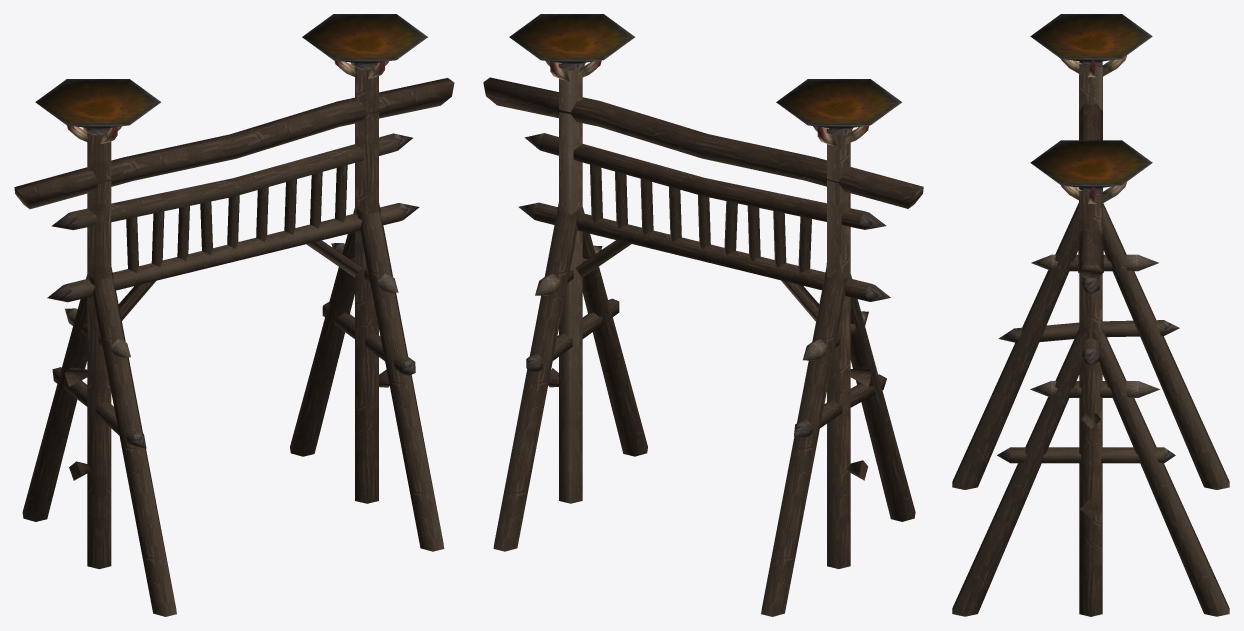
The model's file is mumen_20.fbx.
3 views of the same model, side by side, from view 1: azimuth 30°, elevation 25°; view 2: azimuth 150°, elevation 25°; view 3: azimuth 270°, elevation 25° (orthographic). The views are drawn at different scales.
Parts seen in each view (by area): view 1: mumen_20; view 2: mumen_20; view 3: mumen_20.
Part boxes in pixels (x1=…): mumen_20: x1=14, y1=14, x2=454, y2=616; mumen_20: x1=483, y1=14, x2=923, y2=616; mumen_20: x1=952, y1=14, x2=1229, y2=616.
Size of what is drawn, in the model's own units: 1889 by 1919 by 1079.
